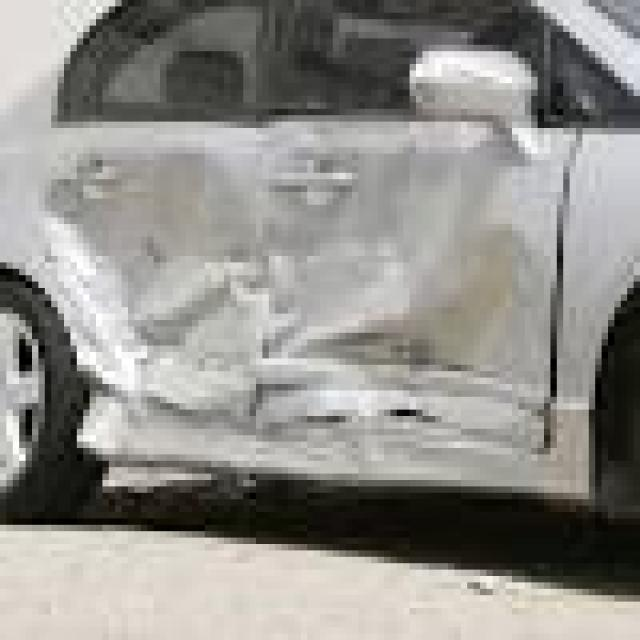moderate: (8, 143, 580, 480)
